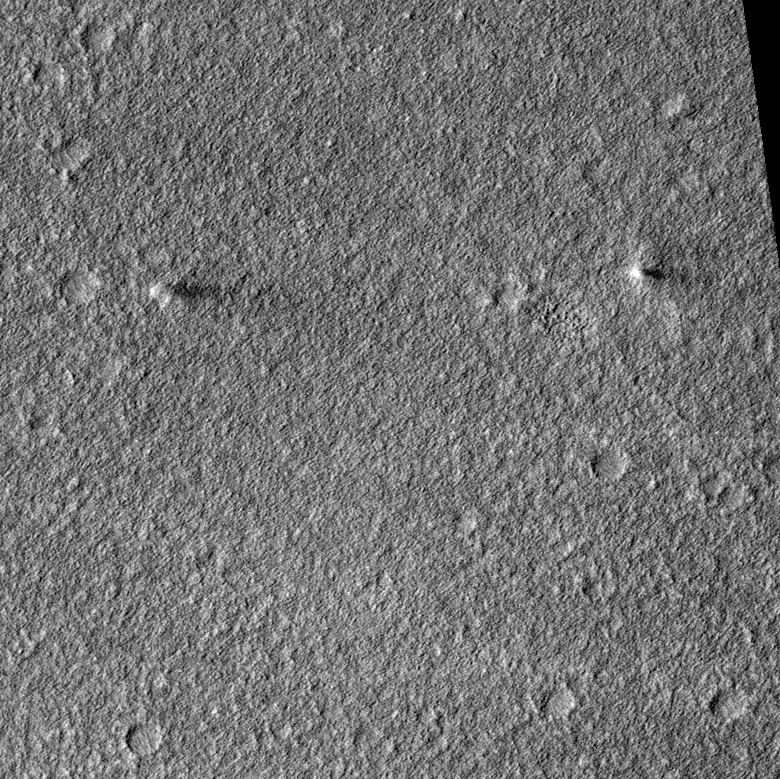dust_devil: (148, 280, 222, 310), (630, 265, 666, 280)
